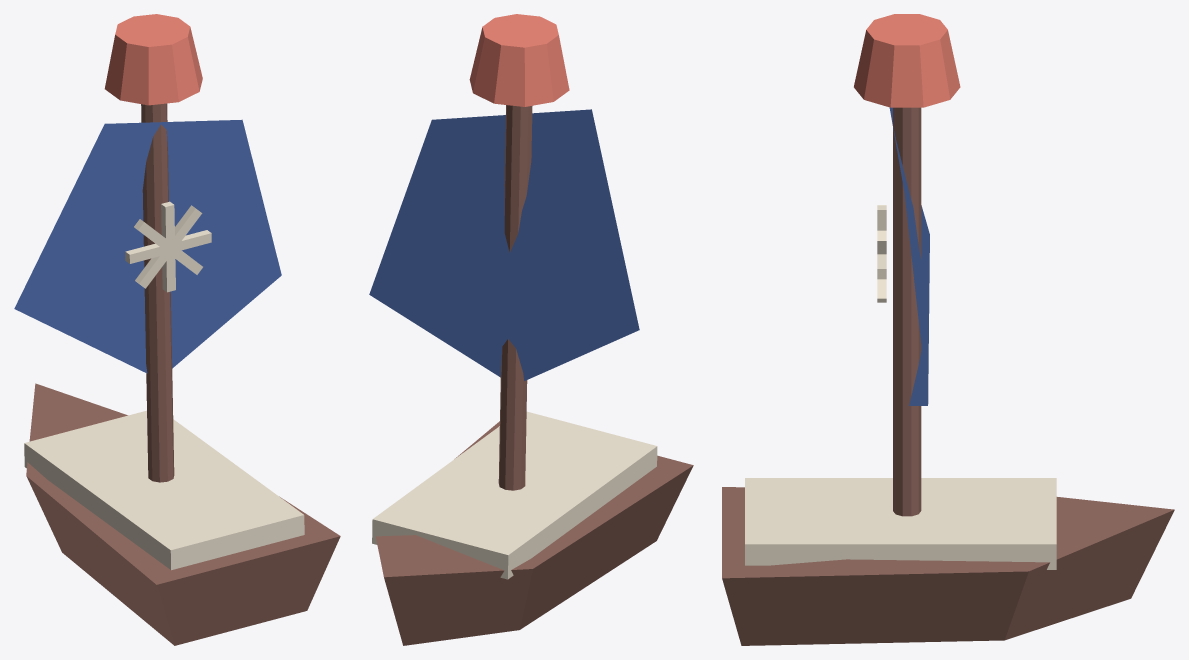
Rendered from scout-outremer.glb.
3 views of the same model, side by side, from view 1: azimuth 30°, elevation 25°; view 2: azimuth 150°, elevation 25°; view 3: azimuth 270°, elevation 25° (orthographic). The views are drawn at different scales.
Parts seen in each view (by area): view 1: Distinctive sail, Carved hull, Pearl deck, Mast, Lookout basket, Compass emblem, Compass emblem.001, Compass emblem.002, Compass emblem.003; view 2: Distinctive sail, Pearl deck, Carved hull, Lookout basket, Mast; view 3: Carved hull, Pearl deck, Mast, Lookout basket, Distinctive sail.
Part boxes in pixels (box(x1,y1,x2,y2)): Distinctive sail: box(14, 119, 281, 373); Carved hull: box(26, 383, 340, 645); Pearl deck: box(24, 410, 304, 570); Mast: box(141, 103, 174, 482); Lookout basket: box(104, 14, 202, 105); Compass emblem: box(161, 201, 175, 292); Compass emblem.001: box(135, 205, 202, 288); Compass emblem.002: box(125, 230, 211, 263); Compass emblem.003: box(134, 219, 202, 274); Distinctive sail: box(369, 109, 639, 380); Pearl deck: box(372, 411, 657, 579); Carved hull: box(375, 421, 693, 645); Lookout basket: box(469, 14, 569, 106); Mast: box(498, 105, 532, 490); Carved hull: box(722, 487, 1174, 645); Pearl deck: box(745, 478, 1056, 569); Mast: box(893, 107, 921, 516); Lookout basket: box(854, 14, 960, 107); Distinctive sail: box(889, 107, 929, 405).
Size of the model in its own units: 1.04 by 2.04 by 1.44.
